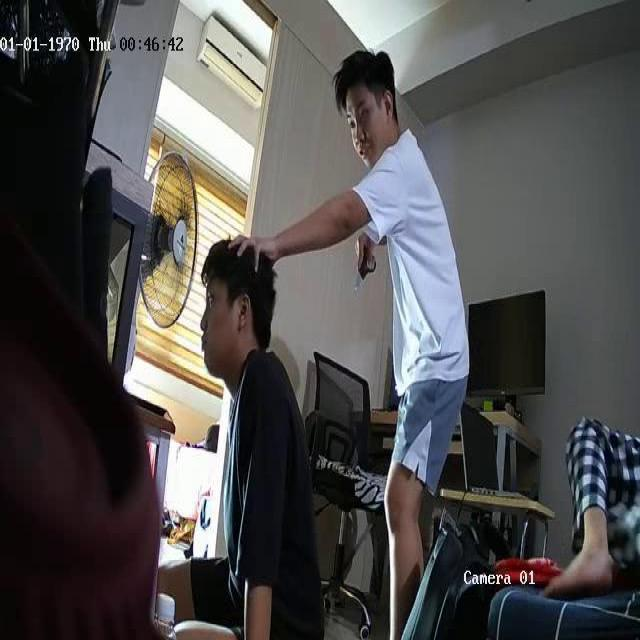scissor: (354, 244, 376, 291)
